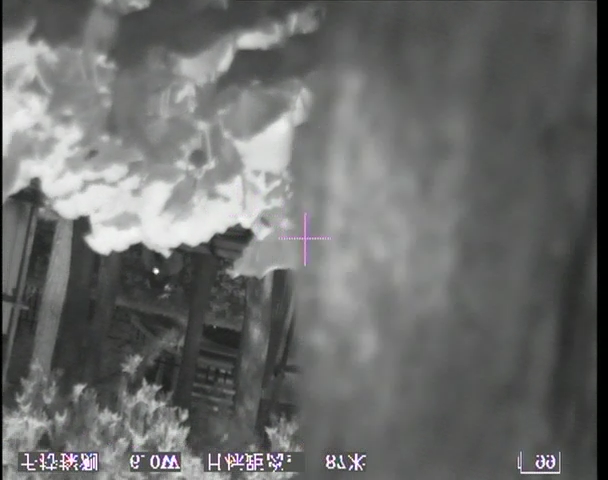my: (151, 266, 161, 277)
